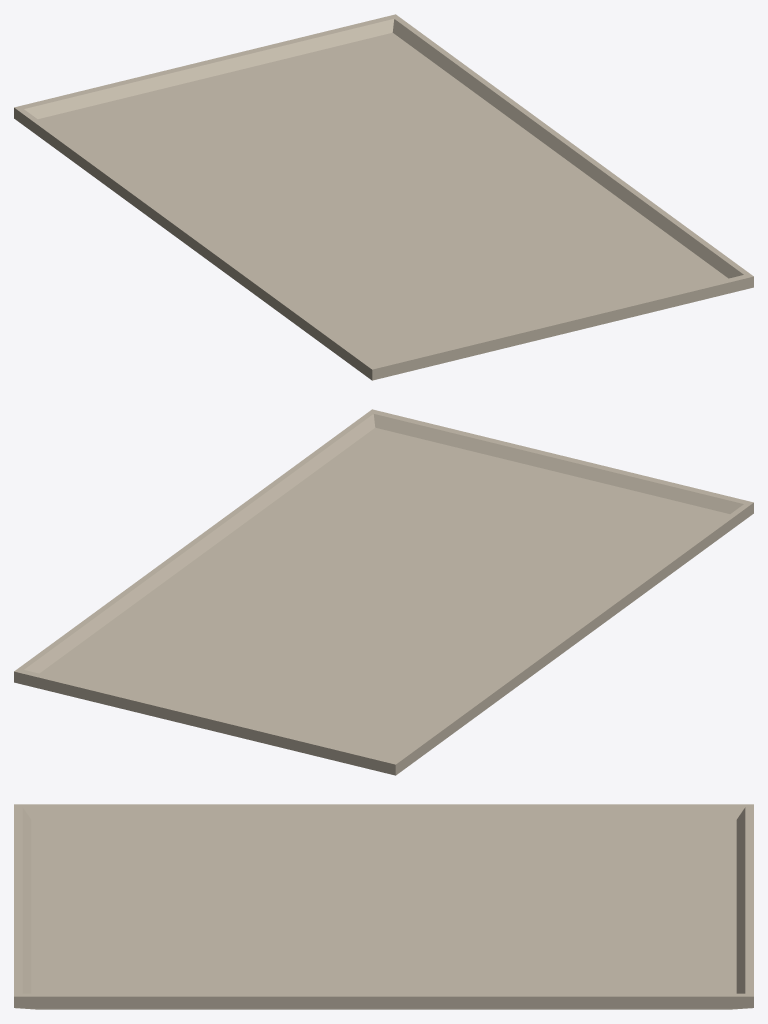
Rendered from mensatablett.fbx.
3 views of the same model, one above another, from view 1: azimuth 30°, elevation 25°; view 2: azimuth 150°, elevation 25°; view 3: azimuth 270°, elevation 25° (orthographic). The views are drawn at different scales.
Parts seen in each view (by area): view 1: Cube; view 2: Cube; view 3: Cube.
Part boxes in pixels (x1,y1,x2,y2): Cube: (14,14,753,380); Cube: (14,409,753,775); Cube: (14,804,753,1009).
Size of the model in its own units: 40 by 2 by 65.
